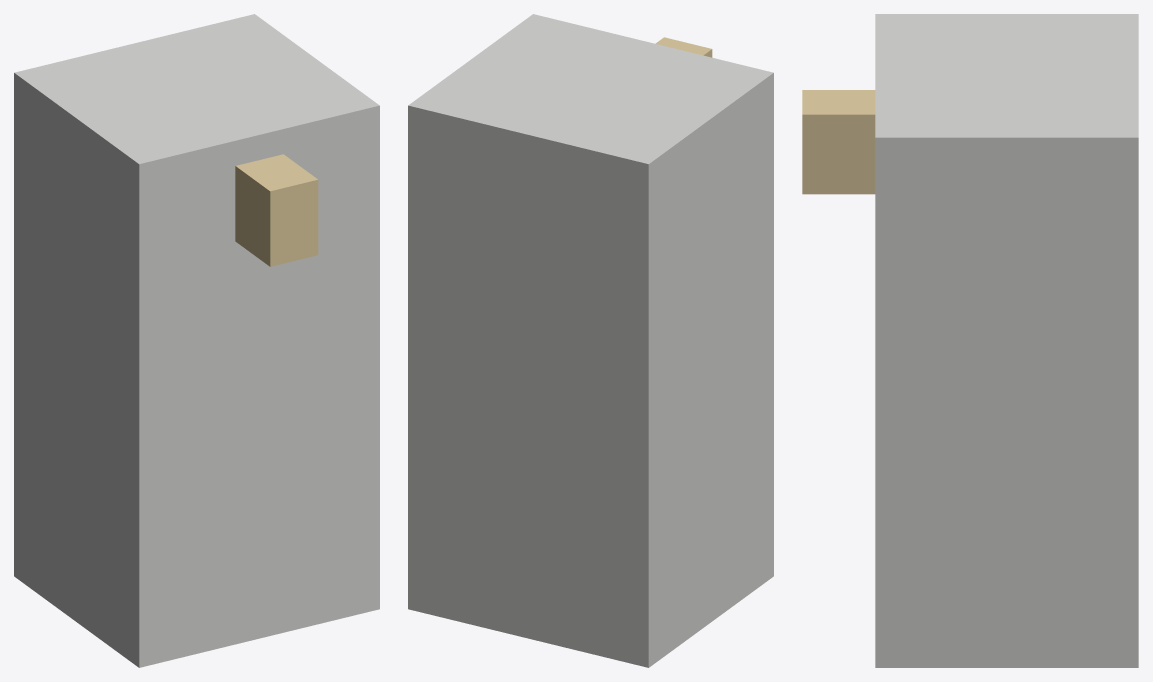
File: dispenser_sabonete.glb
3 renders of one model, left to right at view 1: azimuth 30°, elevation 25°; view 2: azimuth 150°, elevation 25°; view 3: azimuth 270°, elevation 25°, orthographic. The views are drawn at different scales.
Visible parts, largest first — view 1: dispenser_sabonete; view 2: dispenser_sabonete; view 3: dispenser_sabonete.
Boxes of the visible parts, x1,y1,x2,y2 form: dispenser_sabonete: (14, 14, 379, 667); dispenser_sabonete: (408, 14, 773, 667); dispenser_sabonete: (802, 14, 1138, 667).
Size of the model in its own units: 0.1 by 0.2 by 0.115.
